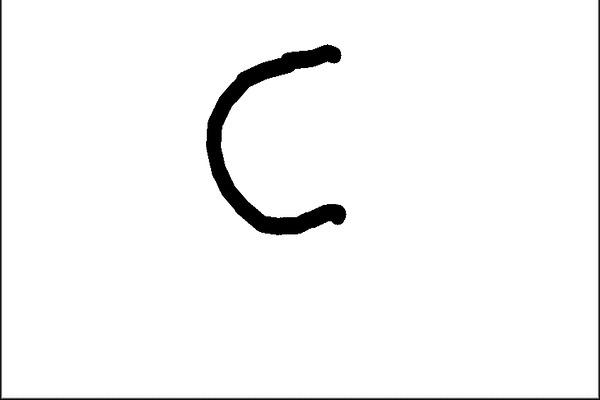C: (199, 31, 360, 239)
